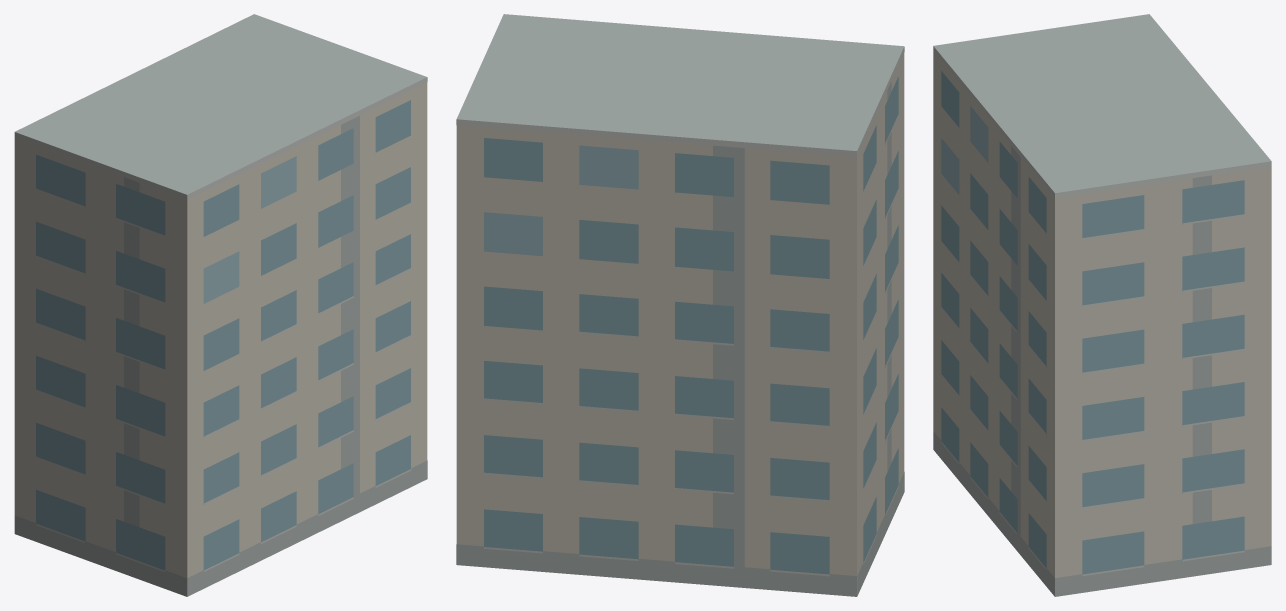
Rendered from survey-upis-32788390.glb.
3 views of the same model, side by side, from view 1: azimuth 30°, elevation 25°; view 2: azimuth 150°, elevation 25°; view 3: azimuth 270°, elevation 25° (orthographic). The views are drawn at different scales.
Parts seen in each view (by area): view 1: survey-upis-32788390.tmp; view 2: survey-upis-32788390.tmp; view 3: survey-upis-32788390.tmp.
Part boxes in pixels (<box>): survey-upis-32788390.tmp: <box>14,14,427,596</box>; survey-upis-32788390.tmp: <box>456,14,904,596</box>; survey-upis-32788390.tmp: <box>933,14,1271,596</box>.
Size of the model in its own units: 17.43 by 18.3 by 13.91.
